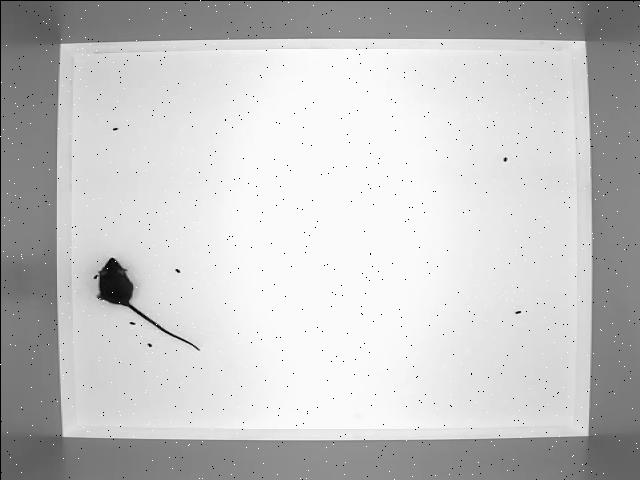Tikus: (89, 256, 203, 355)
